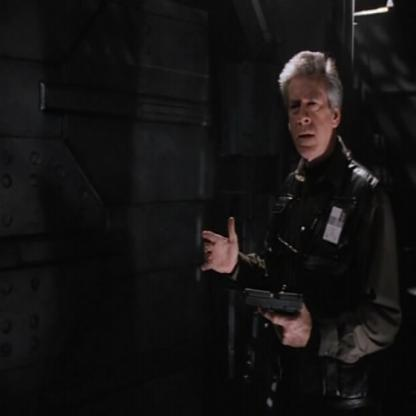gun: (238, 269, 309, 336)
